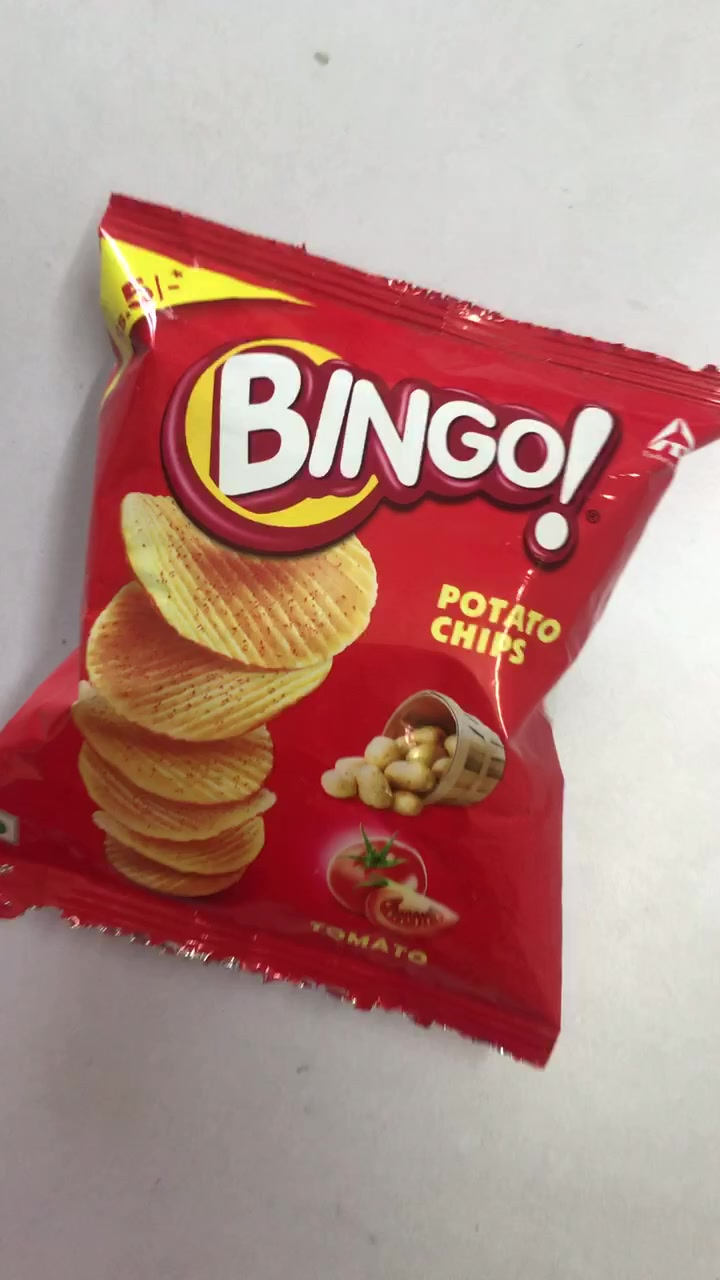Bingo: (9, 192, 720, 1069)
